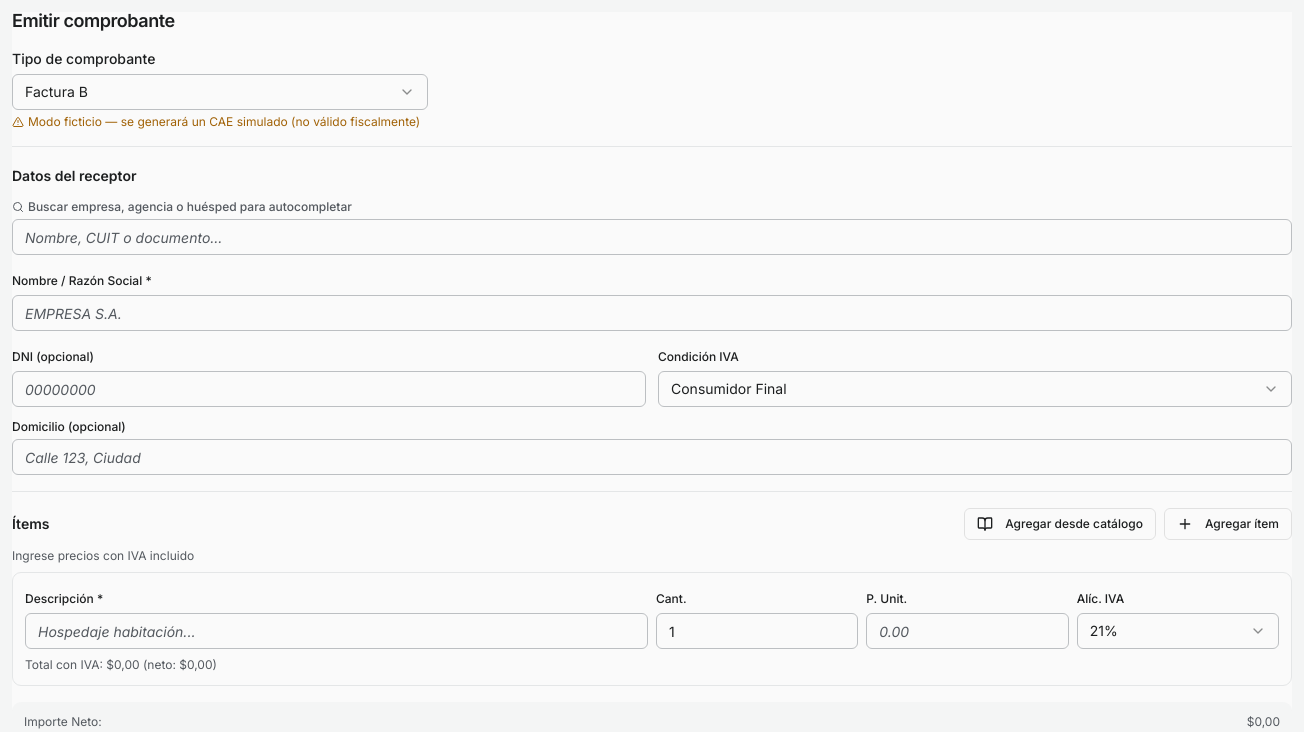
Test: EmitirFacturaDialog — Condición IVA al elegir empresa/agencia del buscador › una empresa Responsable Inscripto autocompleta "Responsable Inscripto", no queda en blanco
Type "Empresa RI" into the field with test id "input-entity-search" at [652, 237], box [12,219,1292,255]
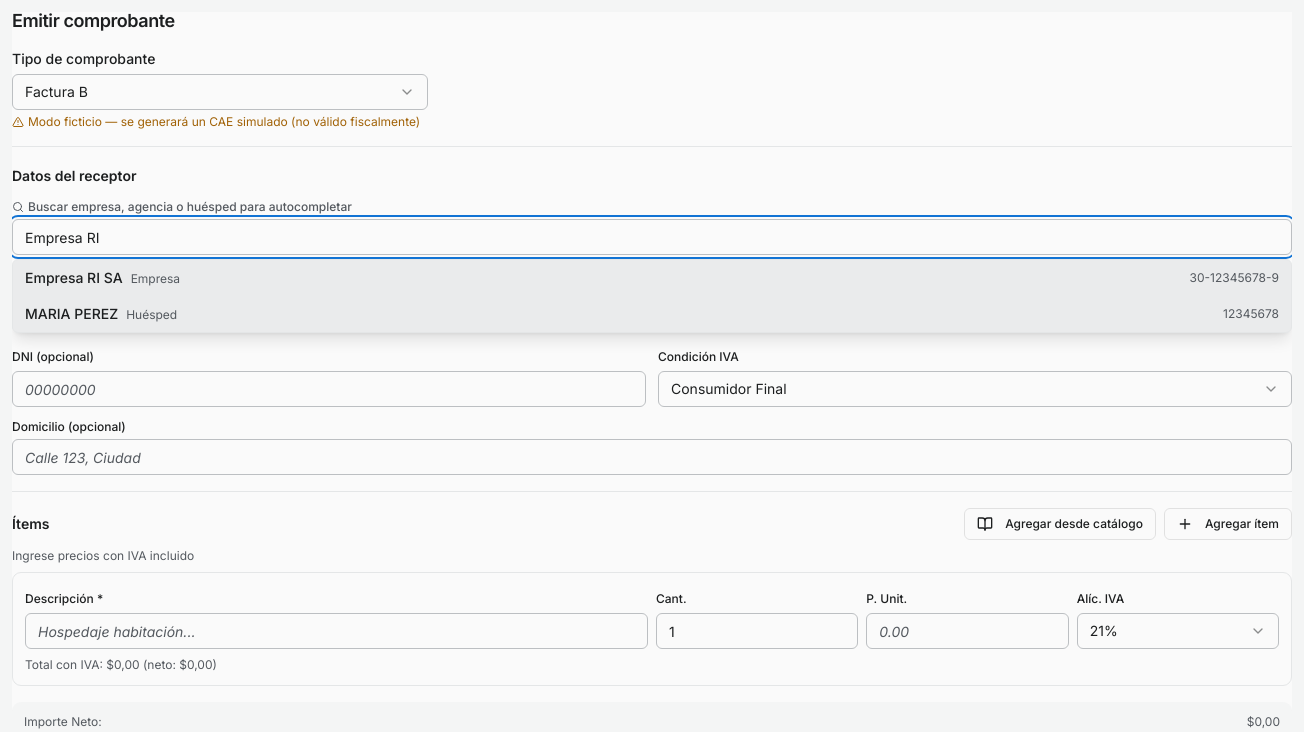
Click the text "Empresa RI SA" at [74, 278], box [25,269,123,286]
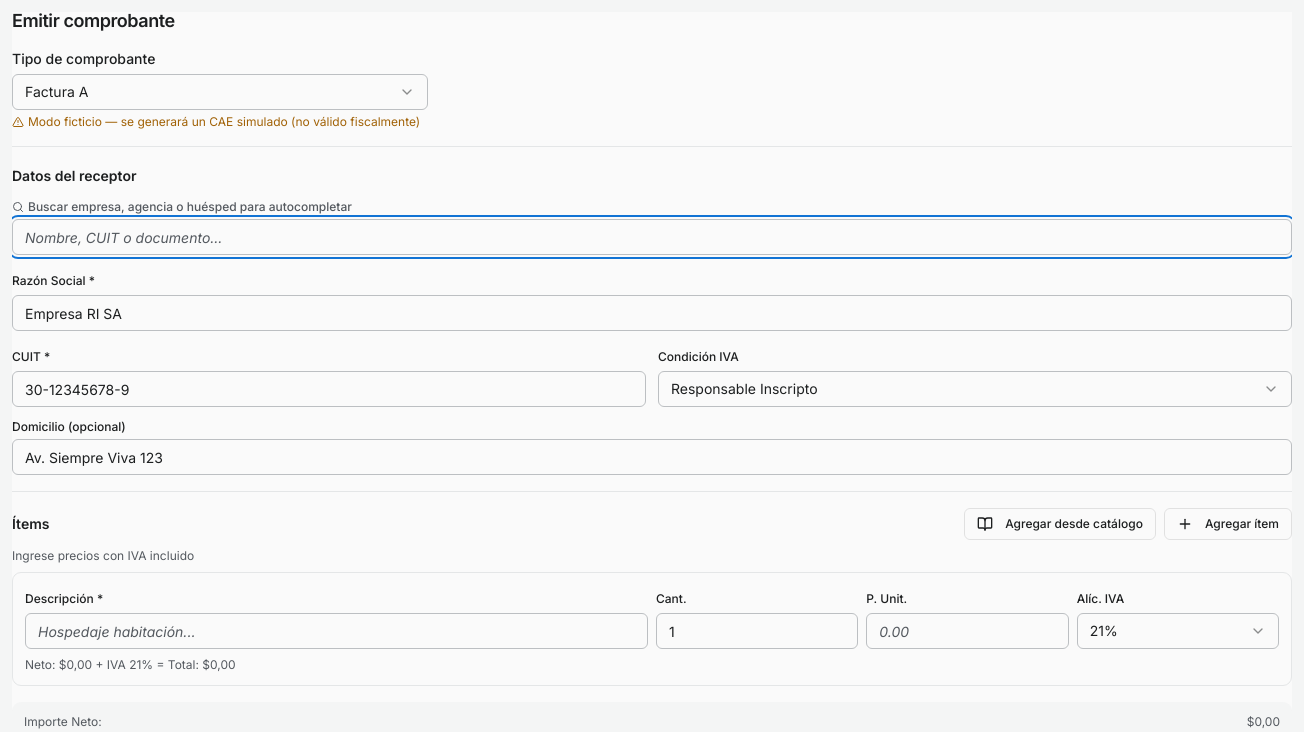
Expected: the dropdown with test id "select-condicion-iva" reads "Responsable Inscripto", [658,371,1292,407]
Expected: the dropdown with test id "select-tipo-factura" reads "Factura A", [12,74,428,110]
